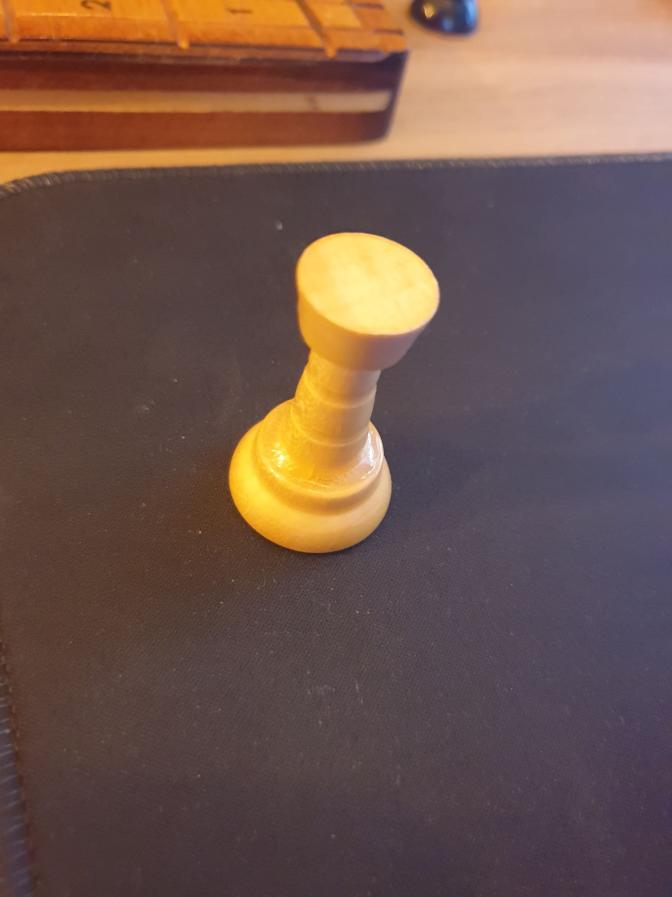wrook: (223, 234, 442, 558)
